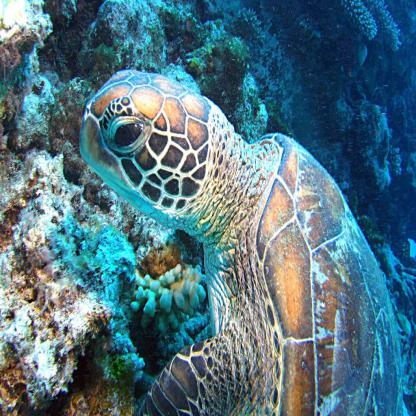turtle: (73, 59, 220, 242)
